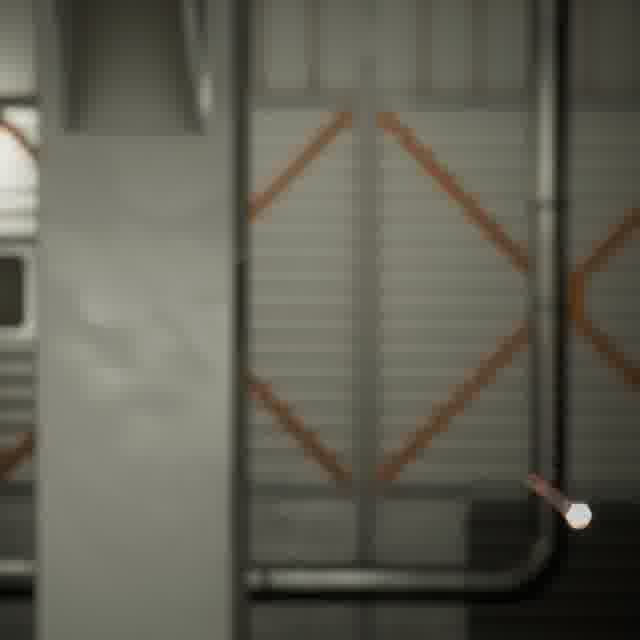bolt: (520, 468, 597, 533)
